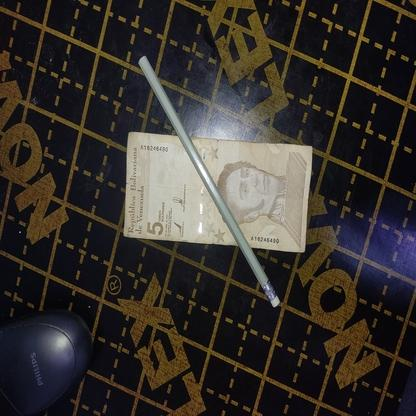five-front-vef: (122, 132, 314, 253)
